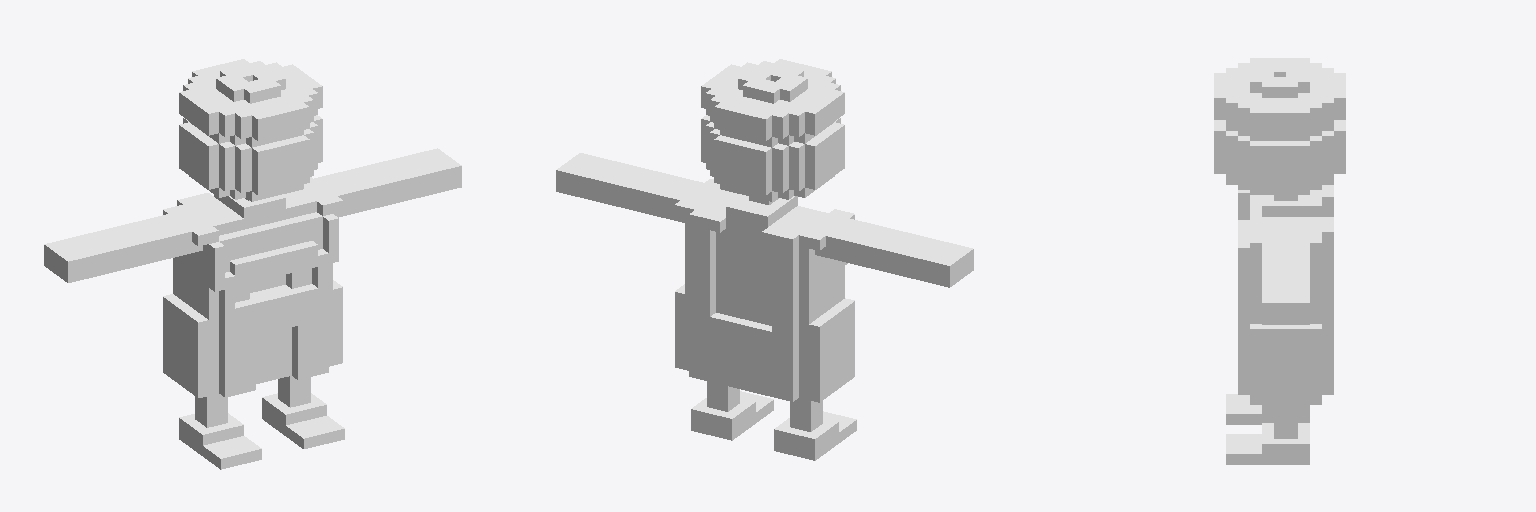
File: sellerskeleton.obj
3 renders of one model, left to right at view 1: azimuth 30°, elevation 25°; view 2: azimuth 150°, elevation 25°; view 3: azimuth 270°, elevation 25°, orthographic.
Visible parts, largest first — view 1: sellerskeleton; view 2: sellerskeleton; view 3: sellerskeleton.
Boxes of the visible parts, x1,y1,x2,y2 form: sellerskeleton: [44, 59, 461, 469]; sellerskeleton: [556, 59, 973, 460]; sellerskeleton: [1214, 58, 1345, 464].
Bounding box in the file's own units: 38 × 33 × 11.